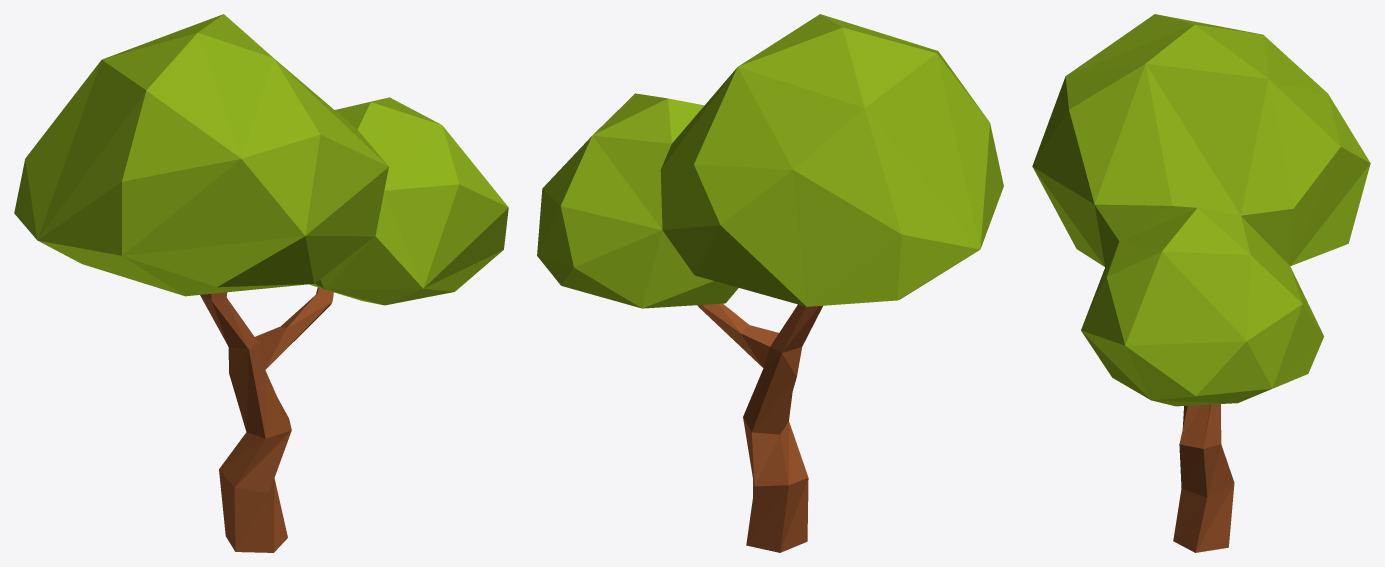
Rendered from tree_01.FBX.
3 renders of one model, left to right at view 1: azimuth 30°, elevation 25°; view 2: azimuth 150°, elevation 25°; view 3: azimuth 270°, elevation 25°, orthographic. The views are drawn at different scales.
Parts seen in each view (by area): view 1: drzewo_01; view 2: drzewo_01; view 3: drzewo_01.
Part boxes in pixels (x1,y1,x2,y2): drzewo_01: (14, 14, 508, 552); drzewo_01: (537, 14, 1003, 552); drzewo_01: (1032, 14, 1370, 552).
Size of the model in its own units: 112 by 127 by 79.71.
Materials: 1 (1 with a texture image).
